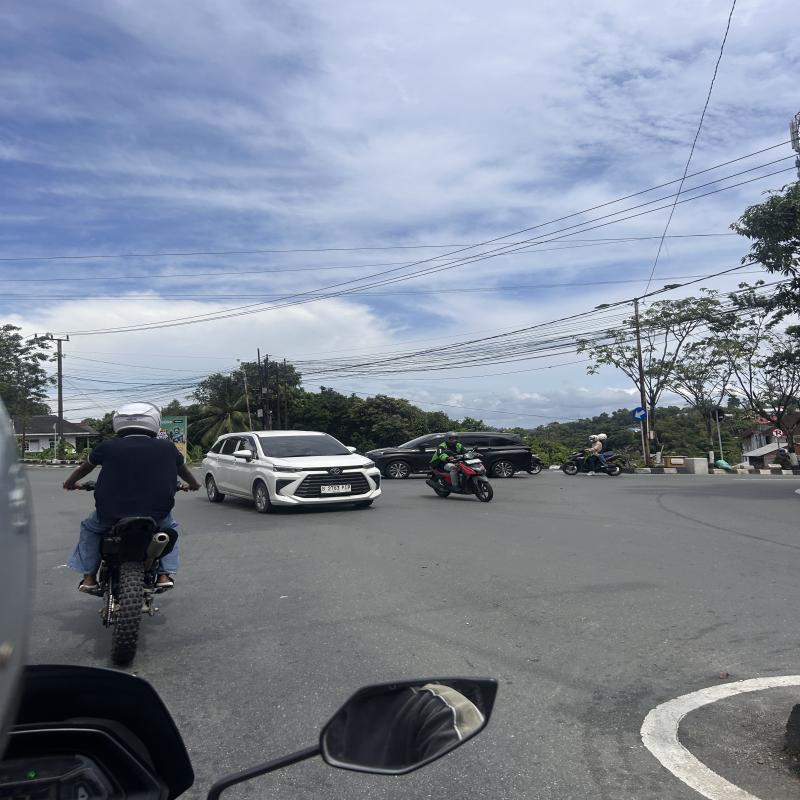license plate on a car: (320, 484, 351, 494)
